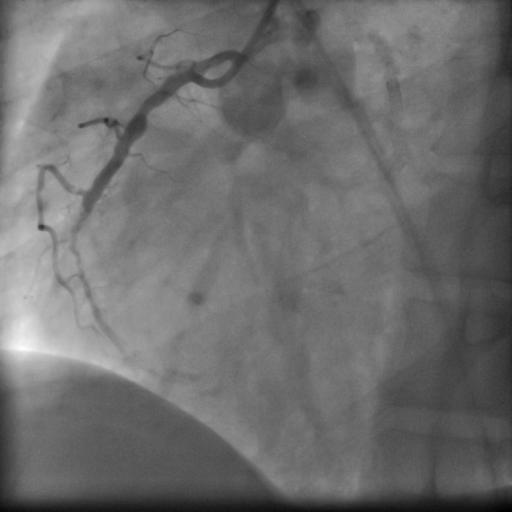Stenosis: (131, 97, 155, 118)
